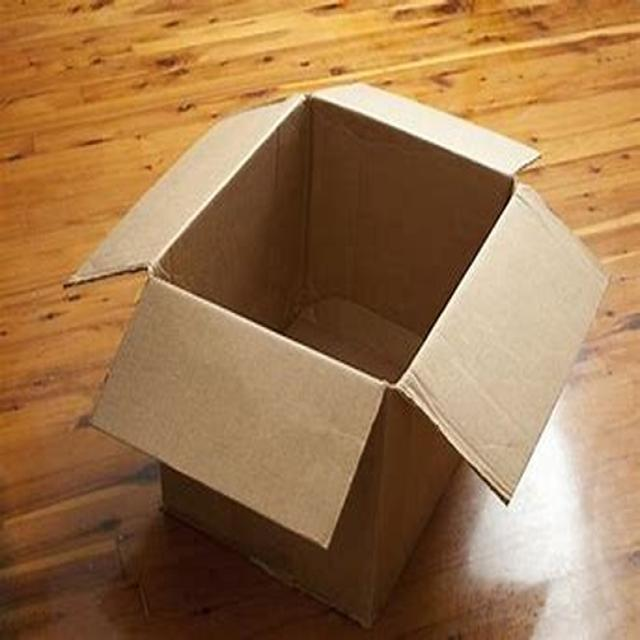box: (83, 49, 611, 564)
